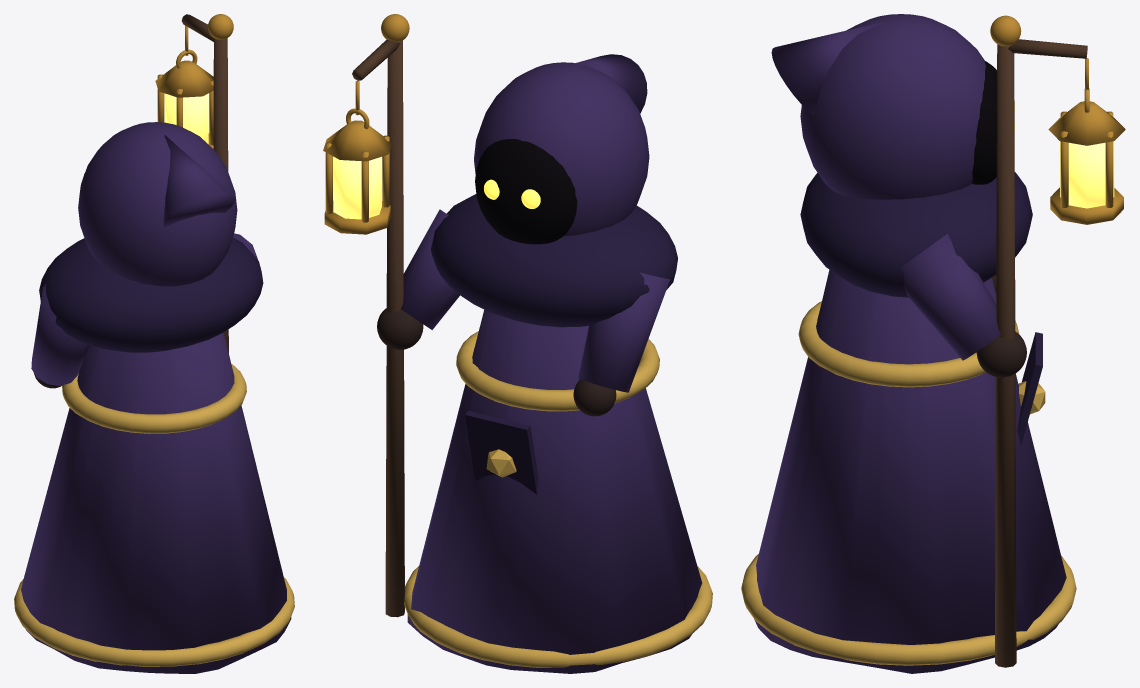
Rendered from player.glb.
3 views of the same model, side by side, from view 1: azimuth 30°, elevation 25°; view 2: azimuth 150°, elevation 25°; view 3: azimuth 270°, elevation 25° (orthographic). The views are drawn at different scales.
Parts seen in each view (by area): view 1: Body, Lantern; view 2: Body, Lantern; view 3: Body, Lantern.
Part boxes in pixels (bbox=[...]): Body: bbox=[14, 14, 294, 673]; Lantern: bbox=[155, 25, 213, 148]; Body: bbox=[352, 14, 712, 673]; Lantern: bbox=[323, 81, 391, 234]; Body: bbox=[741, 14, 1087, 673]; Lantern: bbox=[1048, 58, 1125, 224].
Size of the model in its own units: 0.913 by 1.86 by 0.993.
